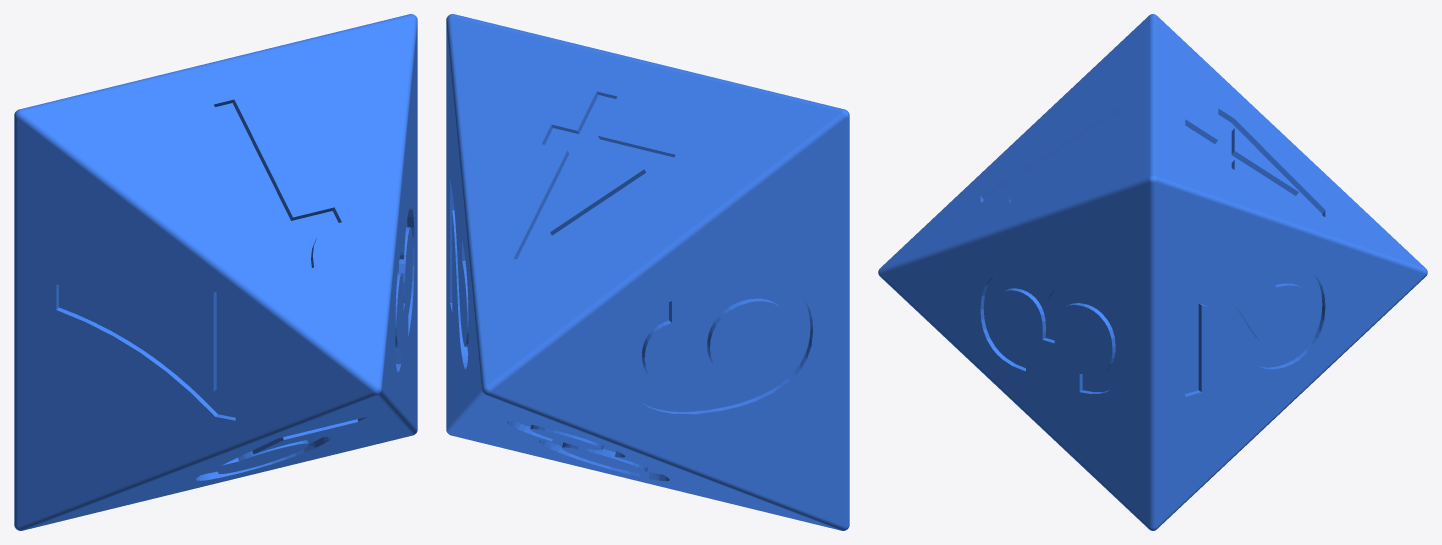
3 renders of one model, left to right at view 1: azimuth 30°, elevation 25°; view 2: azimuth 150°, elevation 25°; view 3: azimuth 270°, elevation 25°, orthographic. The views are drawn at different scales.
Size of the model in its own units: 21.08 by 21.08 by 29.55.
